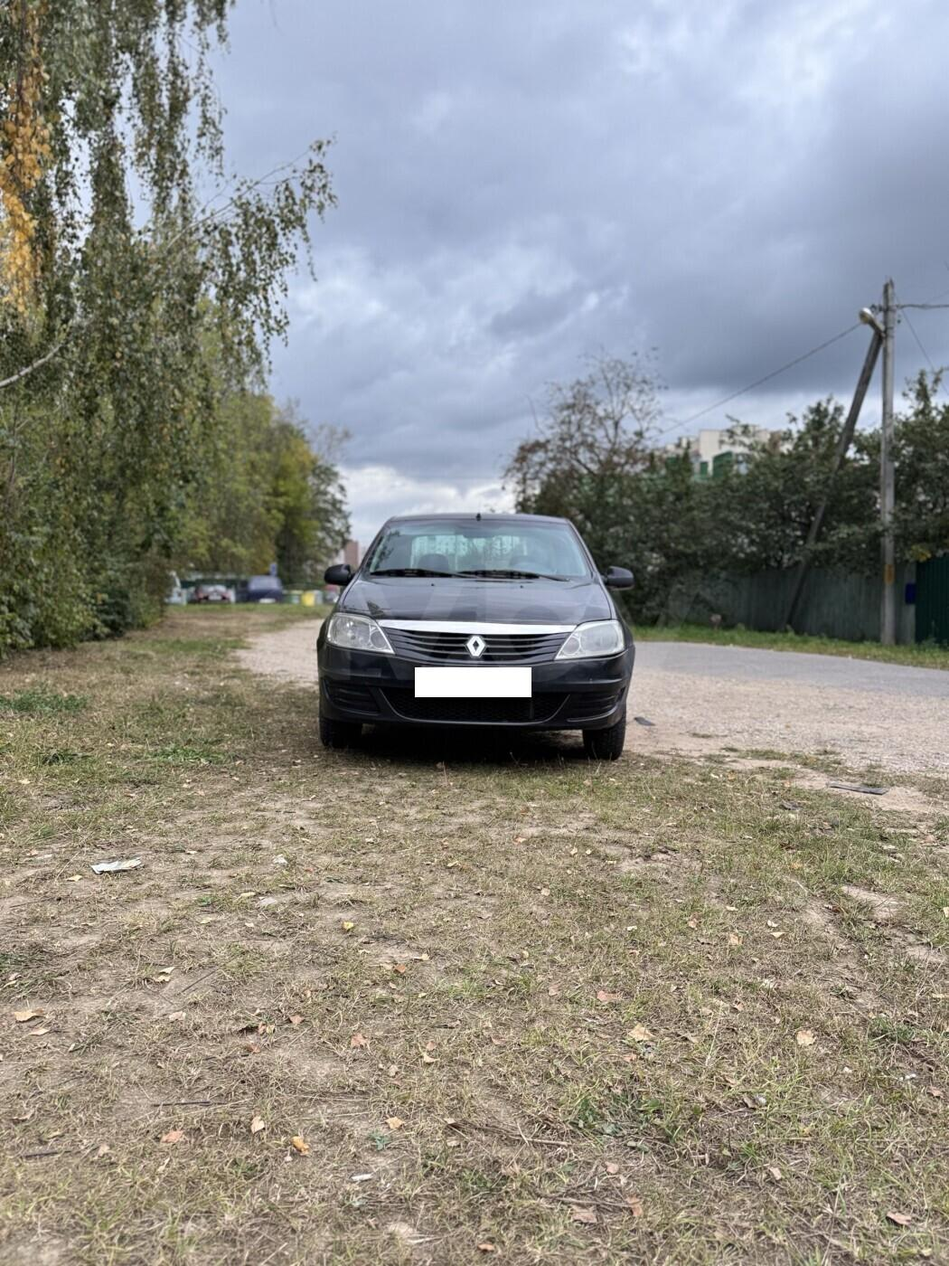Logan_2008-2015: (318, 508, 649, 756)
